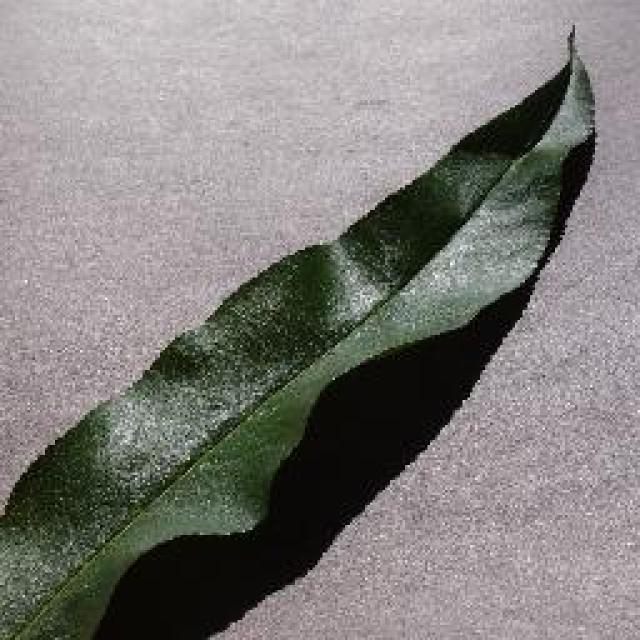Pea_healthy: (48, 132, 592, 598)
